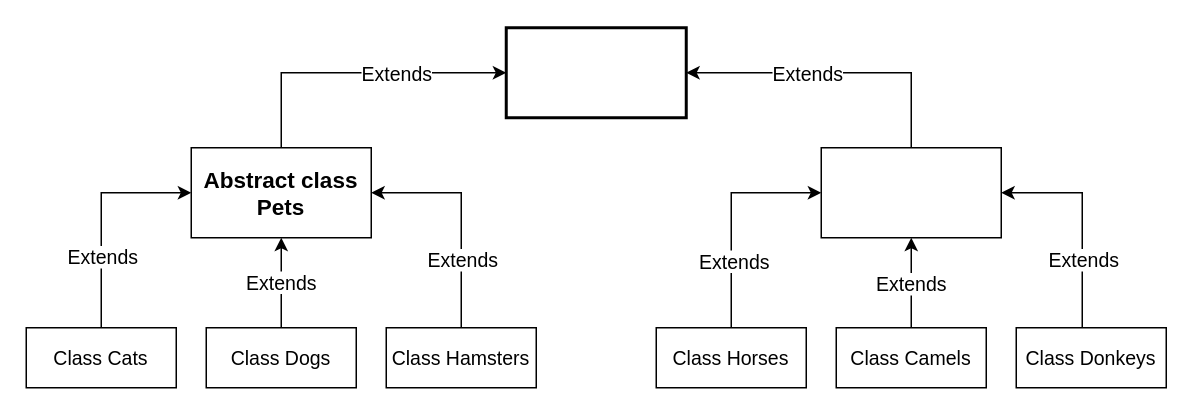
This 1193x414 diagram has some shape labels left out. The box of each missing label's shape, as (x1, y1, x2, y2) in pixels:
Abstract class Animals: (504, 26, 687, 118)
Abstract class Pack_Animals: (820, 146, 1001, 238)
